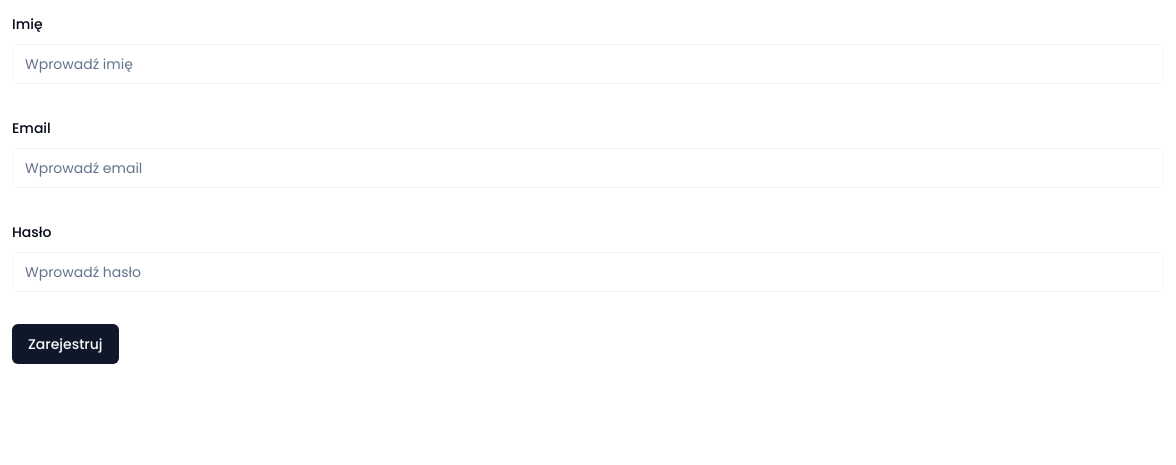
Test: RegisterForm › should show error messages when submited form is empty
Click the button "Zarejestruj".
click(65, 344)  # box [12, 324, 118, 364]
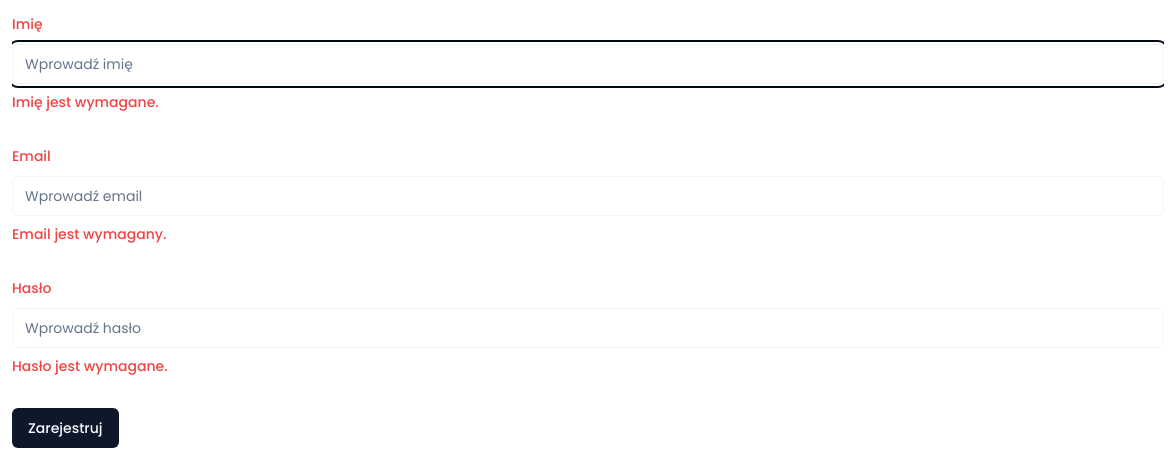
Result: the text "Imię jest wymagane." is shown at [12, 92, 159, 112]
Result: the text "Email jest wymagany." is shown at [12, 224, 166, 244]
Result: the text "Hasło jest wymagane." is shown at [12, 356, 168, 376]
